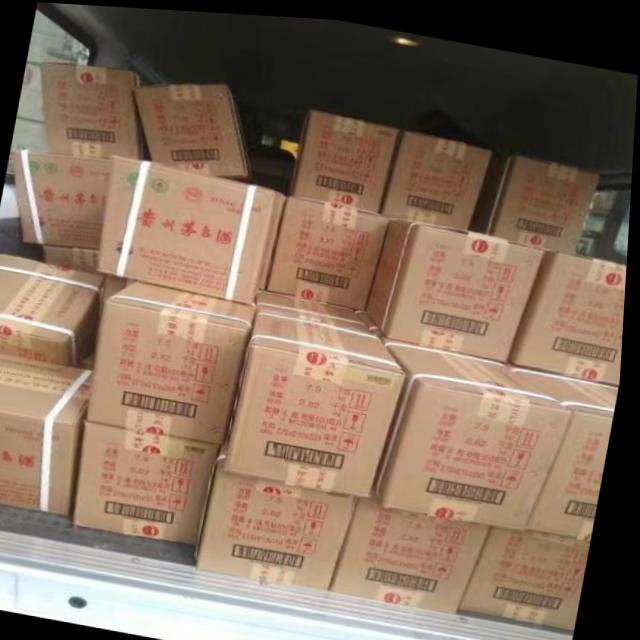box: (356, 303, 575, 522), (227, 302, 411, 494), (100, 149, 288, 300), (92, 276, 263, 440), (370, 211, 550, 355), (201, 441, 363, 586), (335, 478, 496, 609), (508, 352, 621, 532), (77, 418, 227, 543), (0, 352, 98, 515), (511, 244, 629, 378), (513, 244, 629, 378), (269, 190, 392, 306), (465, 519, 595, 623), (0, 252, 107, 364), (132, 83, 254, 179), (489, 146, 602, 247), (381, 125, 494, 225), (42, 62, 153, 161), (294, 104, 399, 208), (18, 149, 114, 248), (261, 289, 371, 319), (45, 243, 106, 272)
